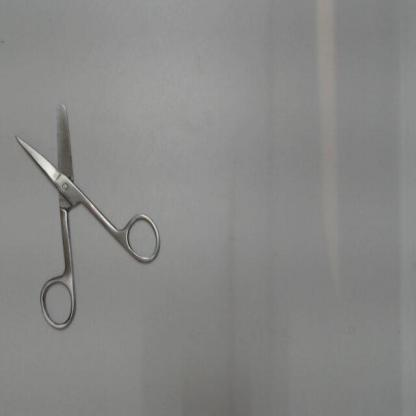Dressing Scissors: (11, 96, 166, 336)
